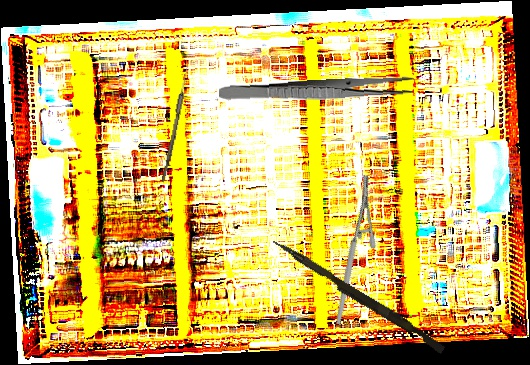Dressing Forceps: (218, 74, 415, 106)
Needle Holder: (291, 172, 413, 326)
Pusher: (267, 237, 449, 355)
Surgical Spoon: (161, 61, 191, 183)
